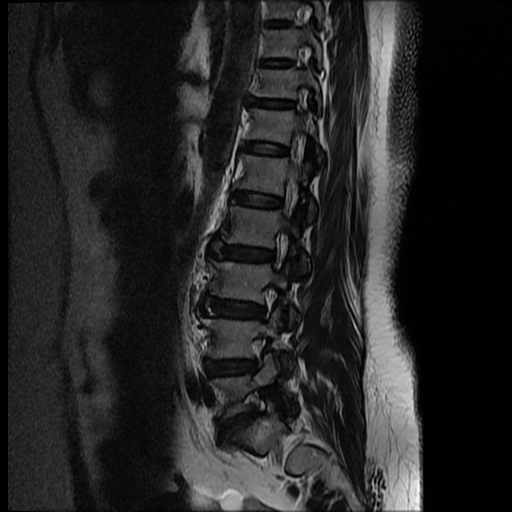LFS0: (248, 277, 289, 325), (240, 325, 274, 378), (238, 380, 276, 424)
